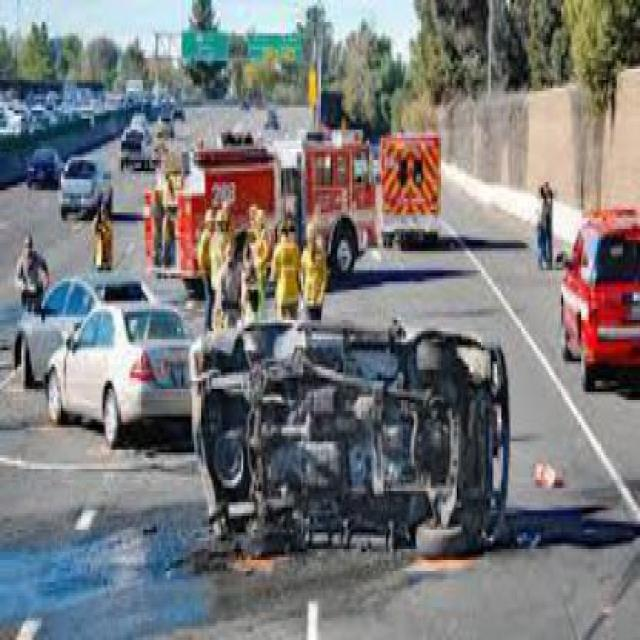accident: (183, 309, 519, 571)
